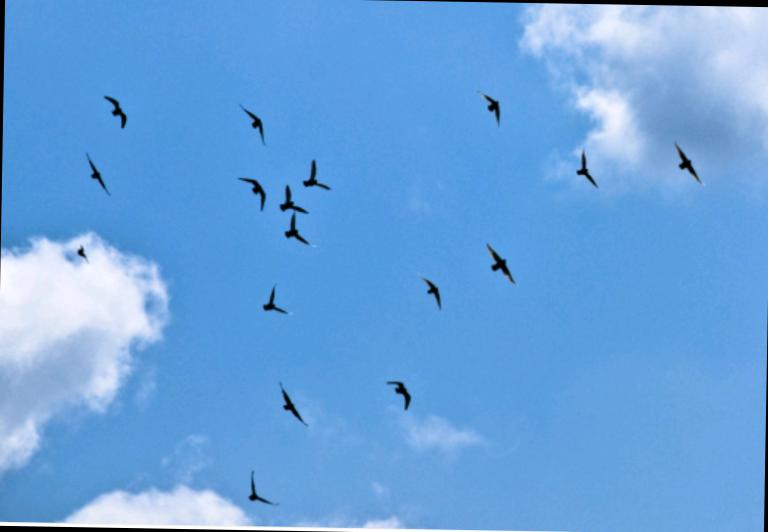bird: (465, 78, 506, 142), (250, 274, 293, 334), (370, 370, 420, 416)
